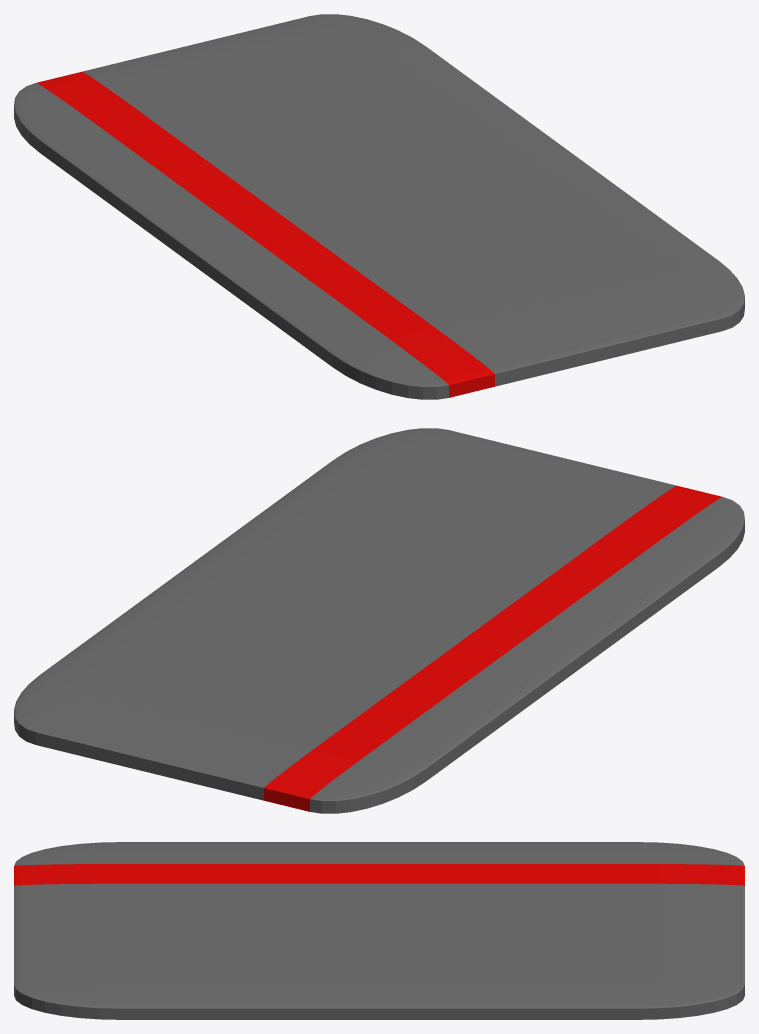
File: RedKeyCard.glb
3 renders of one model, top to bottom at view 1: azimuth 30°, elevation 25°; view 2: azimuth 150°, elevation 25°; view 3: azimuth 270°, elevation 25°, orthographic. The views are drawn at different scales.
Parts seen in each view (by area): view 1: Cube; view 2: Cube; view 3: Cube.
Boxes of the visible parts, x1=… form: Cube: x1=14, y1=14, x2=744, y2=399; Cube: x1=14, y1=428, x2=744, y2=813; Cube: x1=14, y1=842, x2=744, y2=1019.
Bounding box in the file's own units: 0.0525 × 0.00233 × 0.0974.
